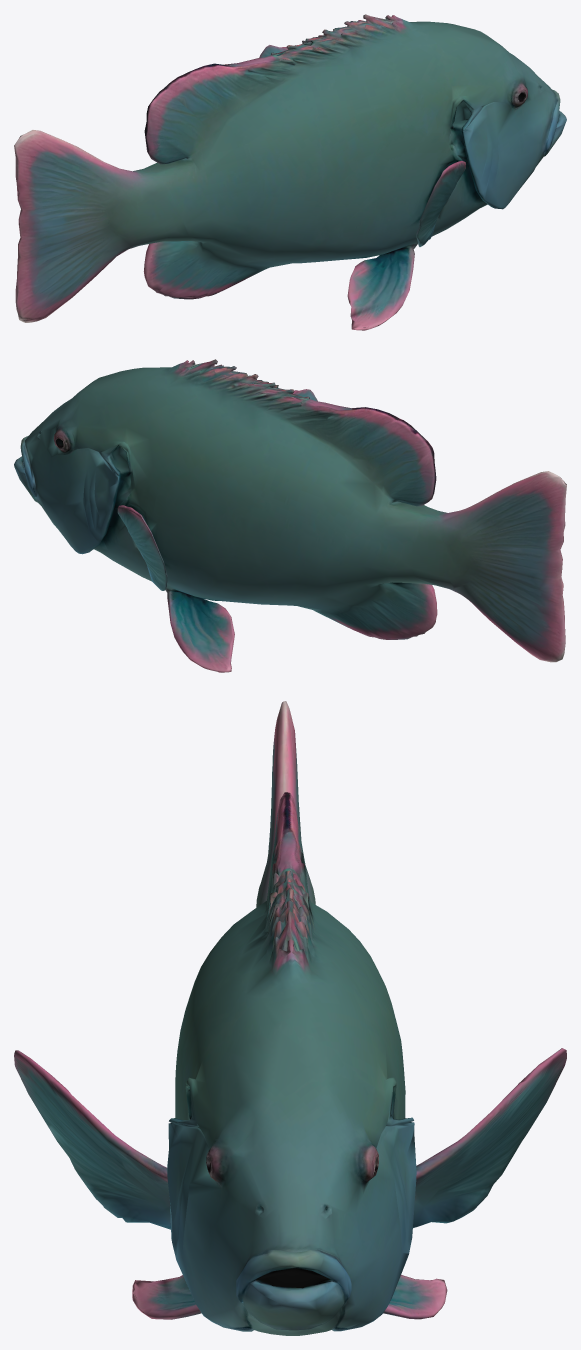
The model's file is parrotfish.glb.
3 views of the same model, one above another, from view 1: azimuth 30°, elevation 25°; view 2: azimuth 150°, elevation 25°; view 3: azimuth 270°, elevation 25° (orthographic). The views are drawn at different scales.
Visible parts, largest first — view 1: tripo_node_be2b3cce-0b2c-4b0f-9e11-6a3fae071b2b; view 2: tripo_node_be2b3cce-0b2c-4b0f-9e11-6a3fae071b2b; view 3: tripo_node_be2b3cce-0b2c-4b0f-9e11-6a3fae071b2b.
Boxes of the visible parts, x1,y1,x2,y2 form: tripo_node_be2b3cce-0b2c-4b0f-9e11-6a3fae071b2b: [14, 14, 566, 330]; tripo_node_be2b3cce-0b2c-4b0f-9e11-6a3fae071b2b: [14, 359, 566, 672]; tripo_node_be2b3cce-0b2c-4b0f-9e11-6a3fae071b2b: [14, 701, 566, 1335].
Bounding box in the file's own units: 1 × 0.4642 × 0.5478.
1 material, 1 textured.
